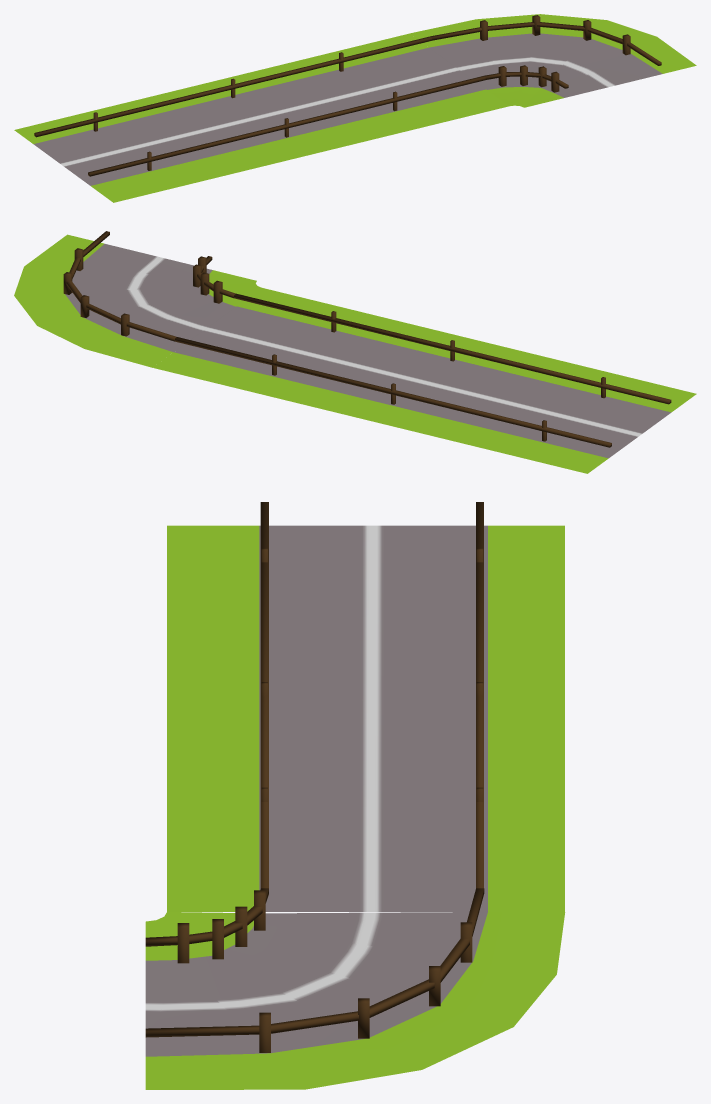
File: RoadModel.fbx
3 views of the same model, one above another, from view 1: azimuth 30°, elevation 25°; view 2: azimuth 150°, elevation 25°; view 3: azimuth 270°, elevation 25° (orthographic). The views are drawn at different scales.
Parts seen in each view (by area): view 1: Road, Road.90Degree; view 2: Road, Road.90Degree; view 3: Road, Road.90Degree.
Part boxes in pixels (x1,y1,x2,y2): Road: (14, 33, 508, 202); Road.90Degree: (410, 14, 696, 107); Road: (153, 288, 696, 473); Road.90Degree: (14, 231, 261, 367); Road: (167, 502, 564, 911); Road.90Degree: (145, 888, 565, 1089).
Size of the model in its own units: 5844 by 179 by 1836.
1 material, 1 textured.
